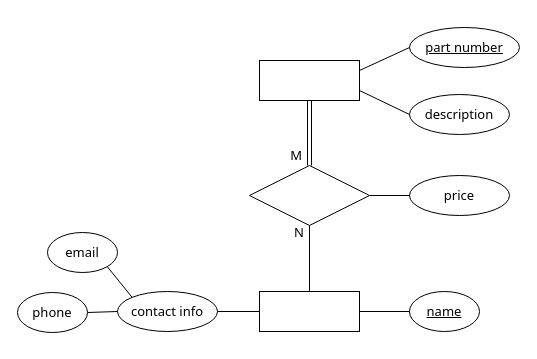
Image size: 537x359. Some labels were removed from this diagram. Each missing label, with the centre of its shape:
"part" goes at point (309, 80).
"supplies" goes at point (309, 195).
"vendor" goes at point (309, 311).
